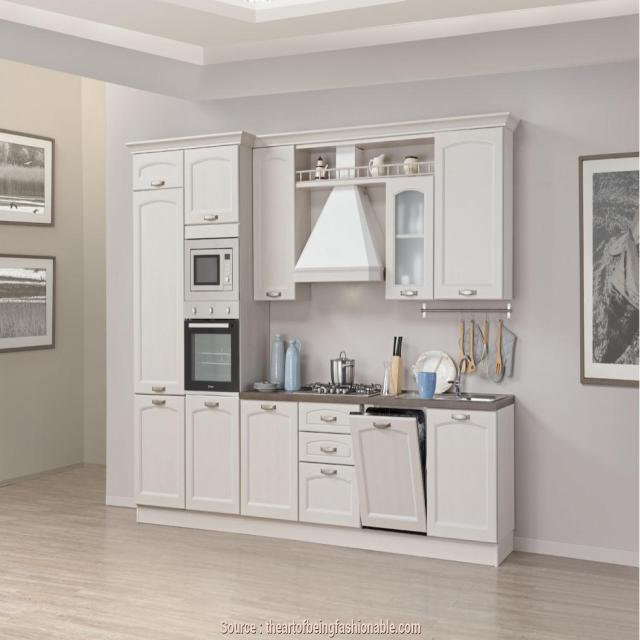dishwasher: (347, 403, 427, 537)
